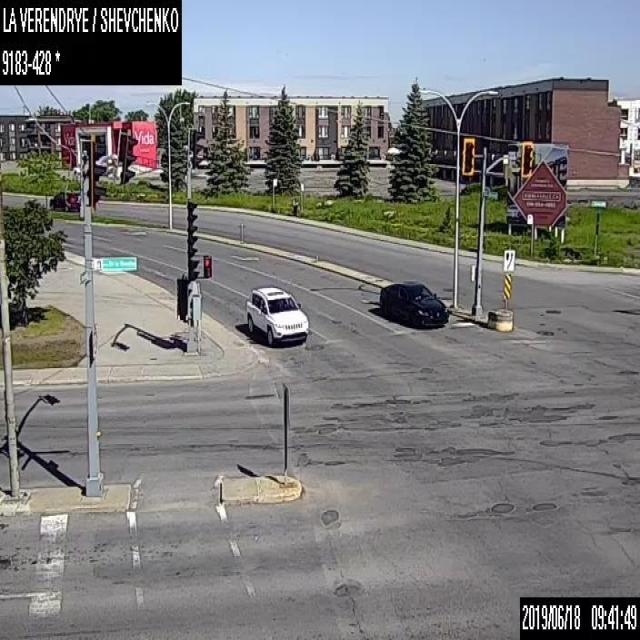vehicle: (244, 284, 308, 346), (379, 279, 448, 328), (49, 189, 80, 211)
